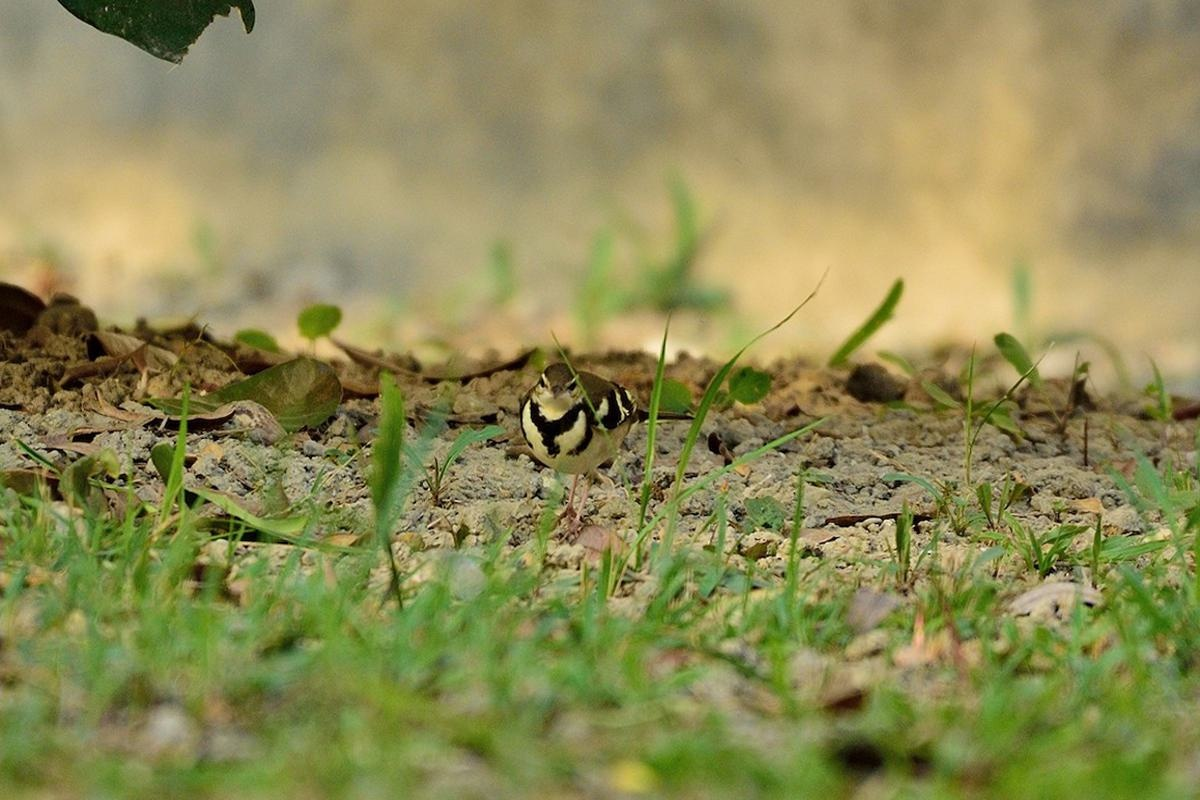wagtail: (469, 346, 664, 491)
